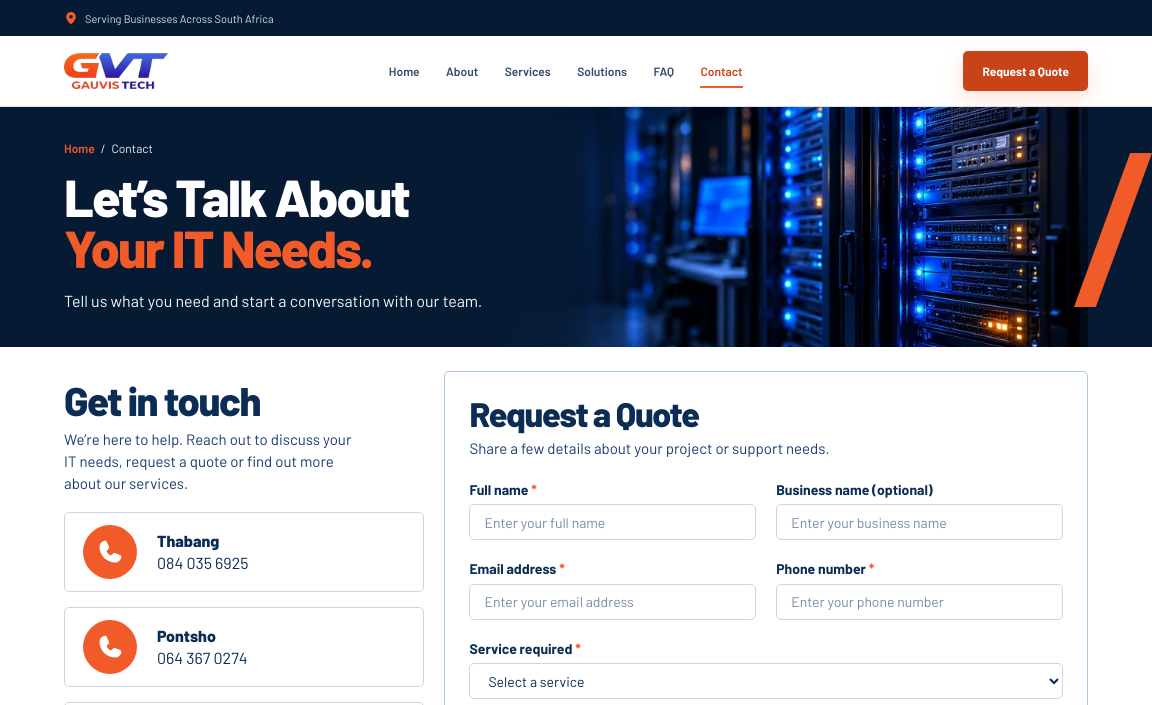
Contact route › keeps entered values and allows retrying when the API is unavailable
Step 1. Type "Thandi Ndlovu" into the field labelled "Full name *" → (613, 522), box [469, 504, 756, 540]
Step 2. Type "thandi@example.com" into the field labelled "Email address *" → (613, 602), box [469, 584, 756, 620]
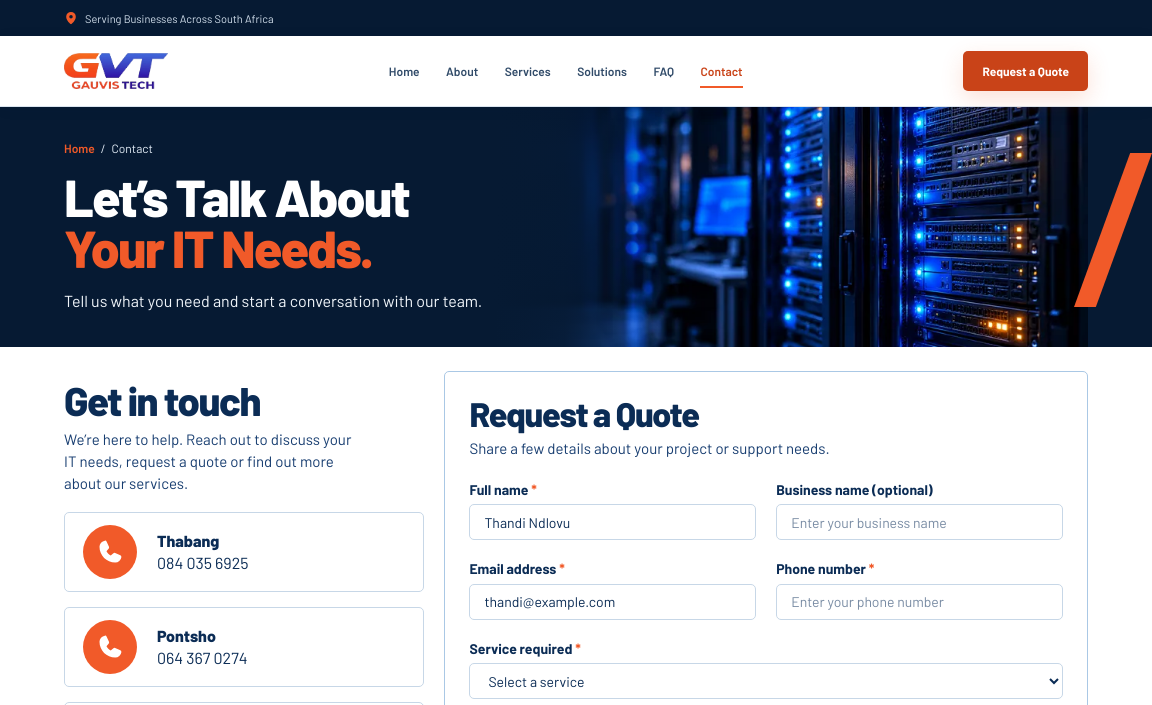
Step 3. Type "+27 84 123 4567" into the field labelled "Phone number *" → (920, 602), box [776, 584, 1063, 620]
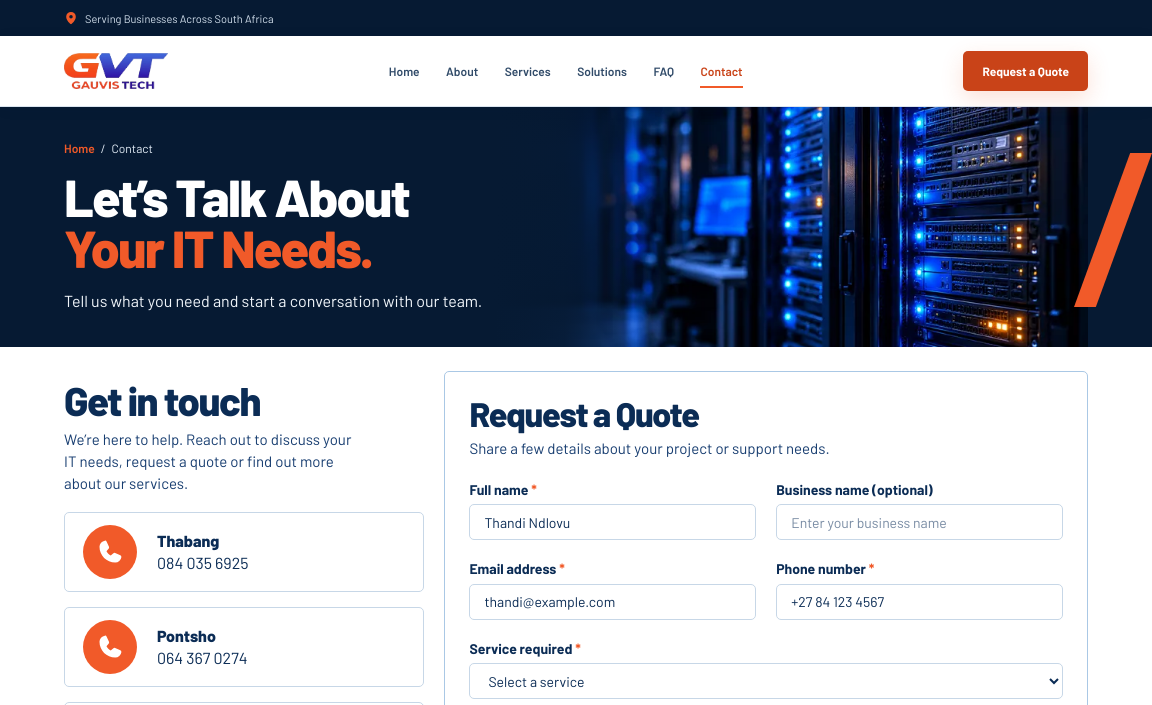
Step 4. Select "Hardware Support" in the dropdown labelled "Service required *" → (766, 681), box [469, 663, 1063, 699]
(page scrolled)
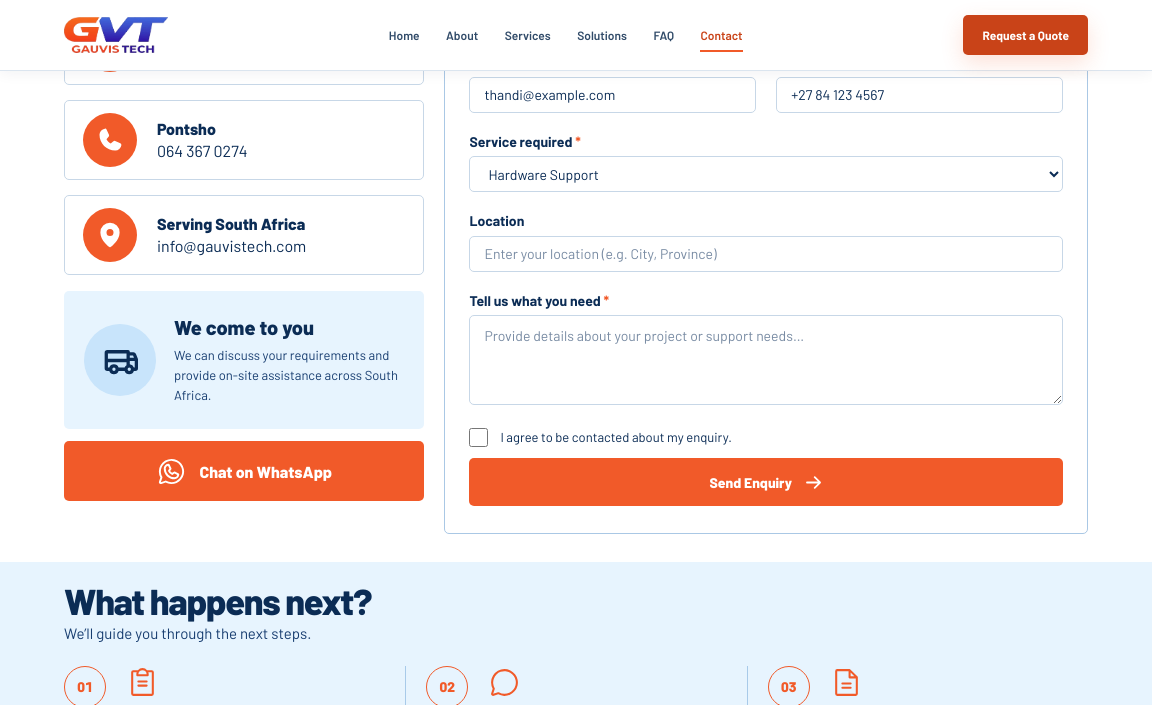
Step 5. Type "Please help us replace three office computers." into the text box labelled "Tell us what you need *" → (766, 360), box [469, 315, 1063, 405]
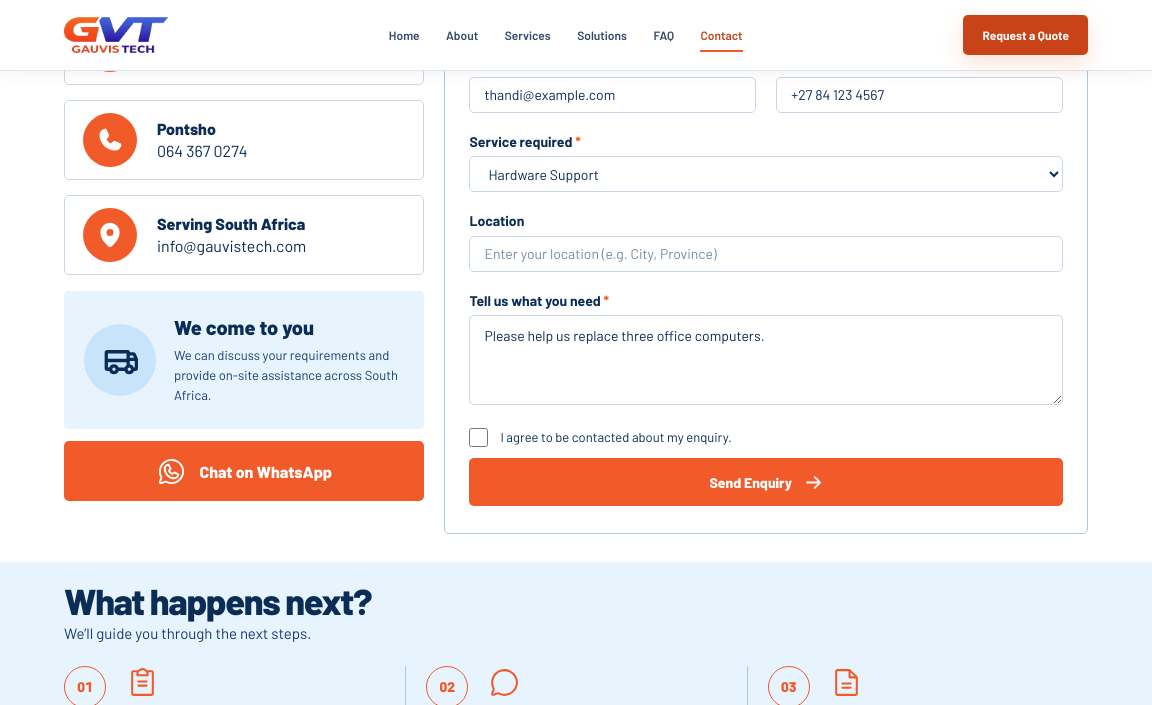
Step 6. Click the checkbox labelled "I agree to be contacted about my enquiry." → (479, 437), box [469, 428, 488, 447]
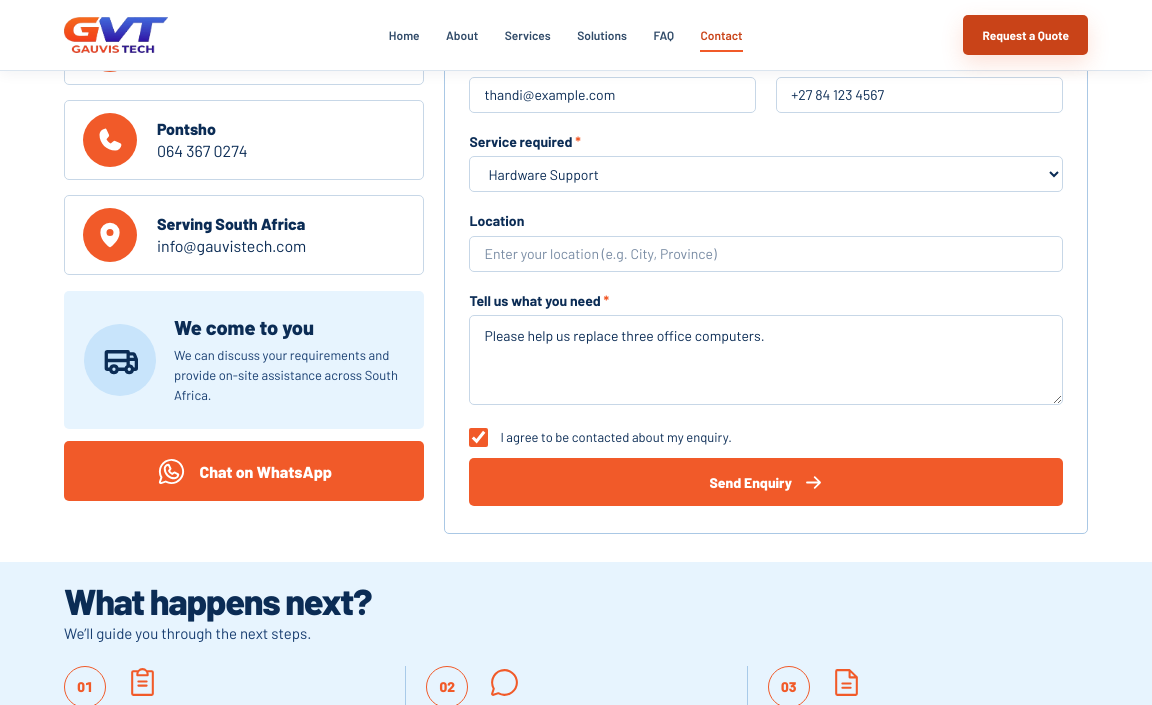
Step 7. Click the button "Send Enquiry" → (766, 482), box [469, 458, 1063, 506]
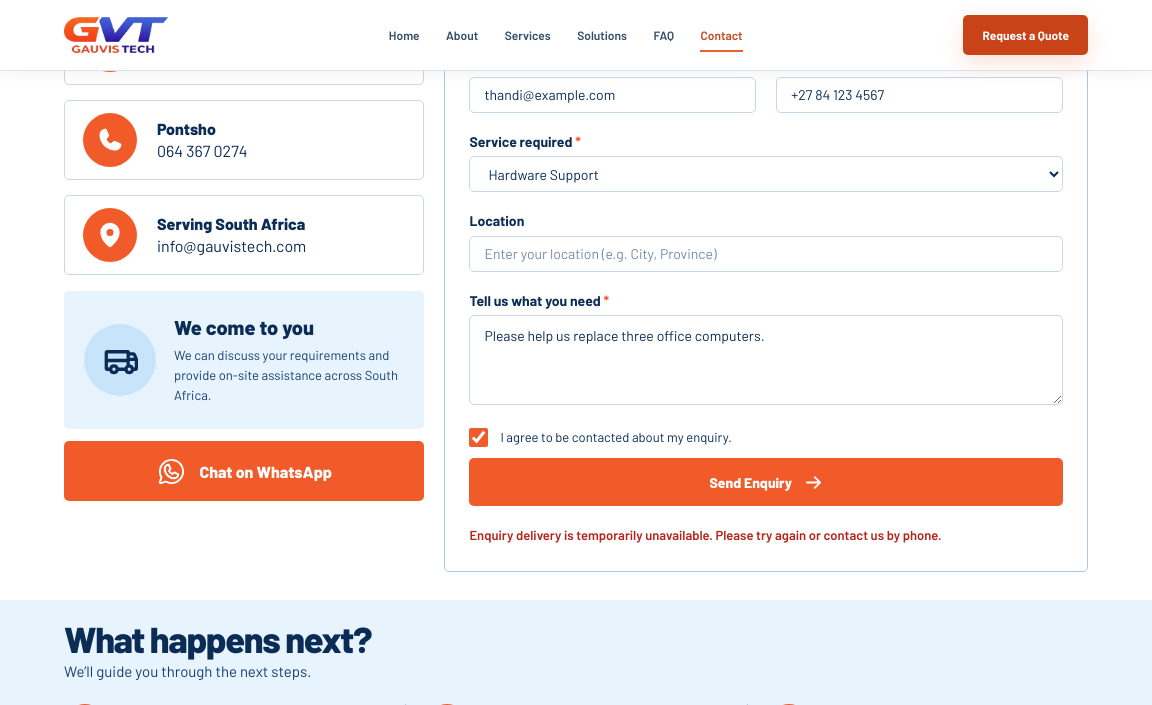
expect the message shows "temporarily unavailable": met, box [469, 527, 942, 543]
